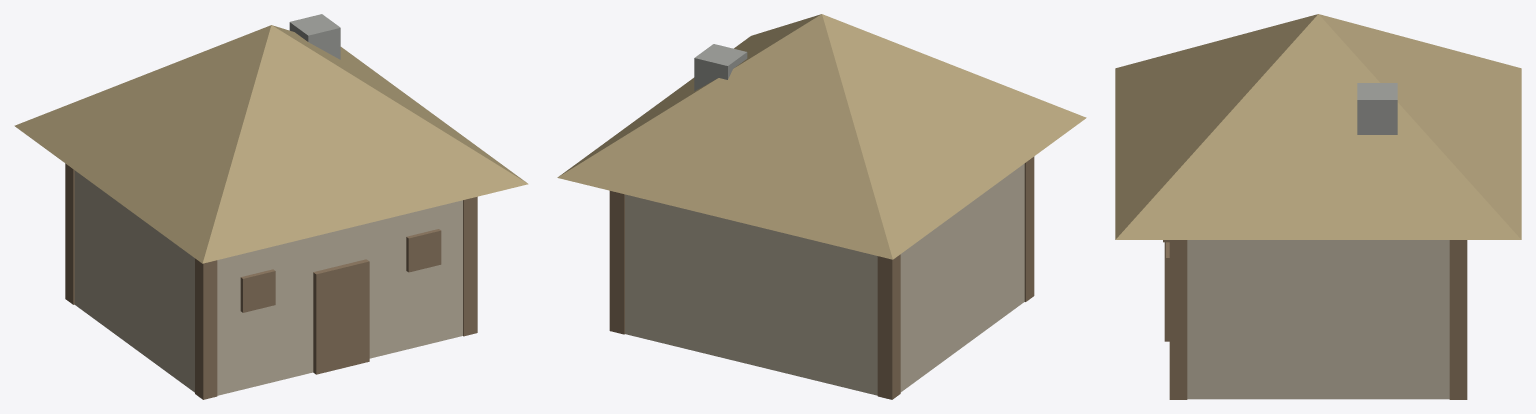
Rendered from house.fbx.
3 views of the same model, side by side, from view 1: azimuth 30°, elevation 25°; view 2: azimuth 150°, elevation 25°; view 3: azimuth 270°, elevation 25° (orthographic). The views are drawn at different scales.
Visible parts, largest first — view 1: house; view 2: house; view 3: house.
Part boxes in pixels (x1,y1,x2,y2): house: (14,14,528,399); house: (557,14,1086,399); house: (1115,14,1521,399).
Bounding box in the file's own units: 552 × 470 × 552.
